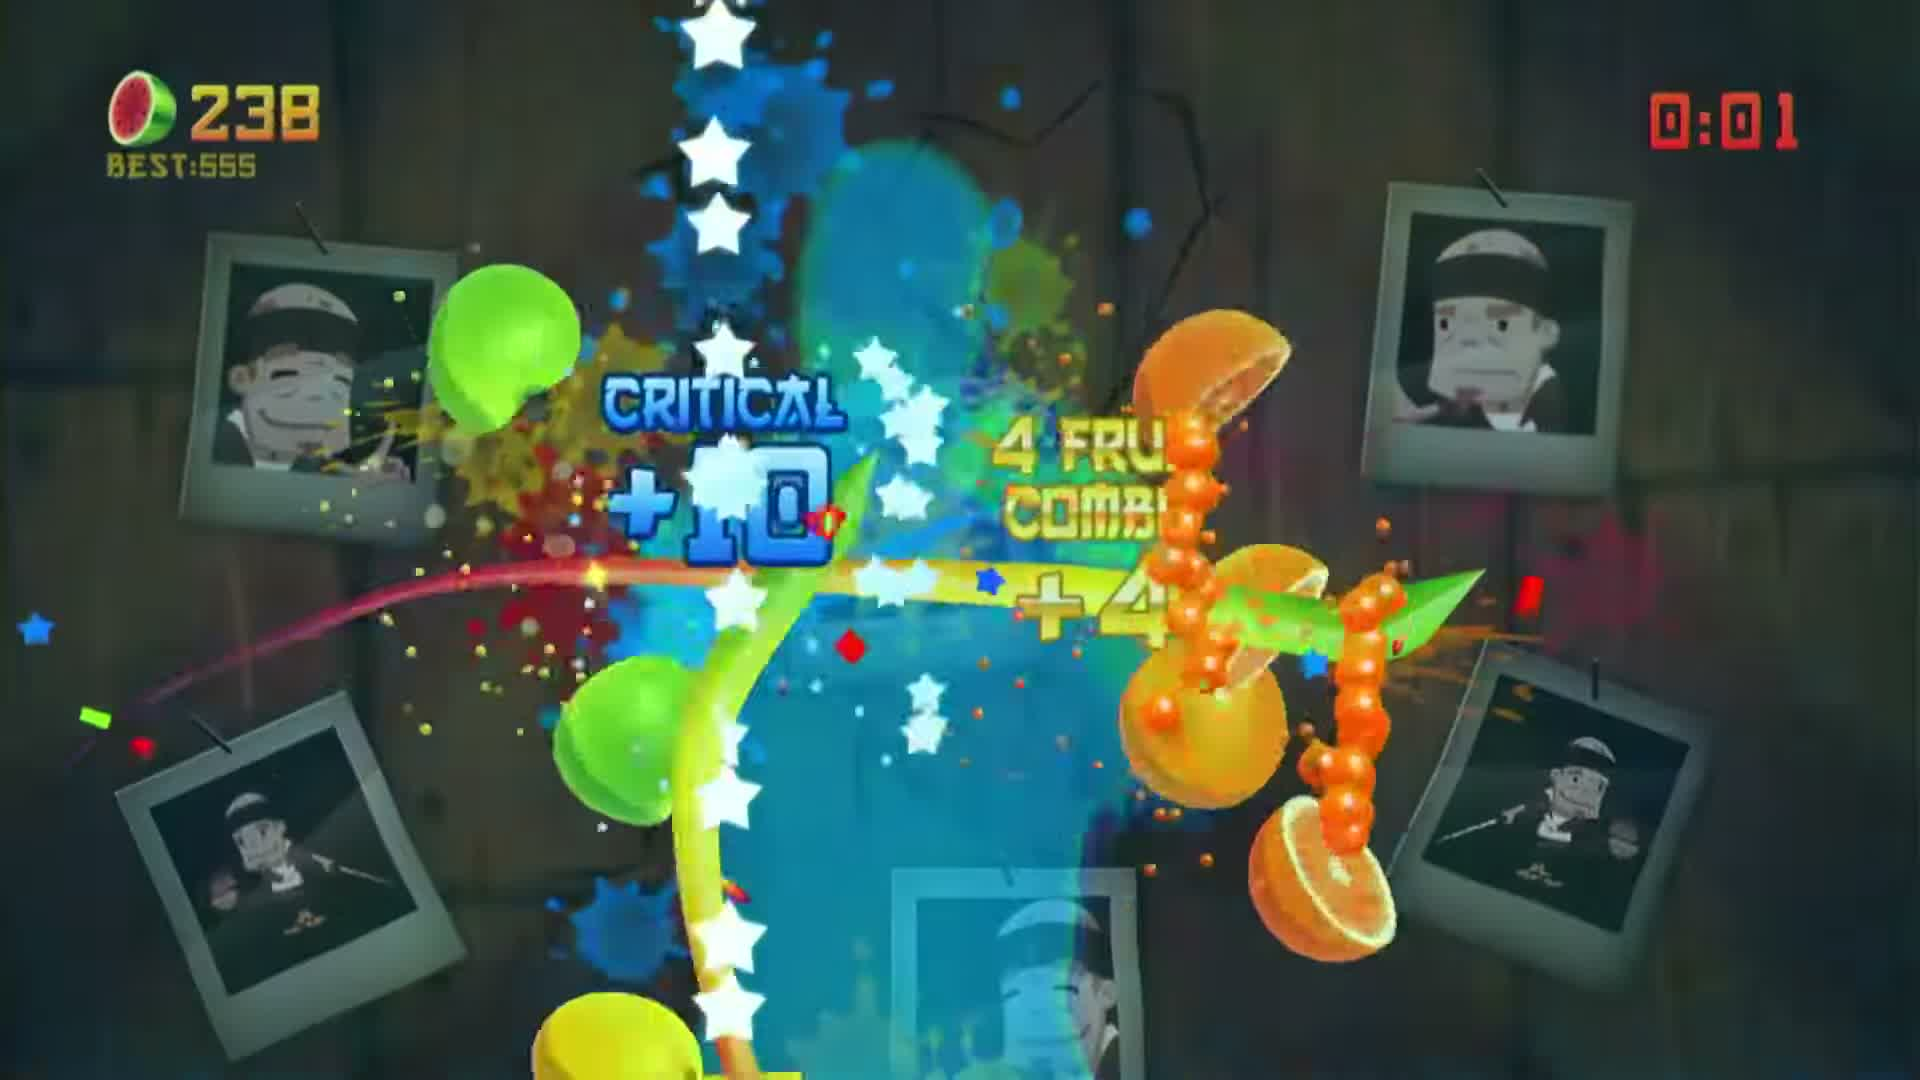blade_trail: (588, 447, 822, 1059), (0, 527, 427, 786)
fruit: (375, 305, 527, 488), (1089, 381, 1261, 541), (1291, 571, 1501, 698), (1081, 740, 1242, 895), (500, 686, 637, 844), (508, 956, 651, 1080), (1196, 605, 1308, 716)
